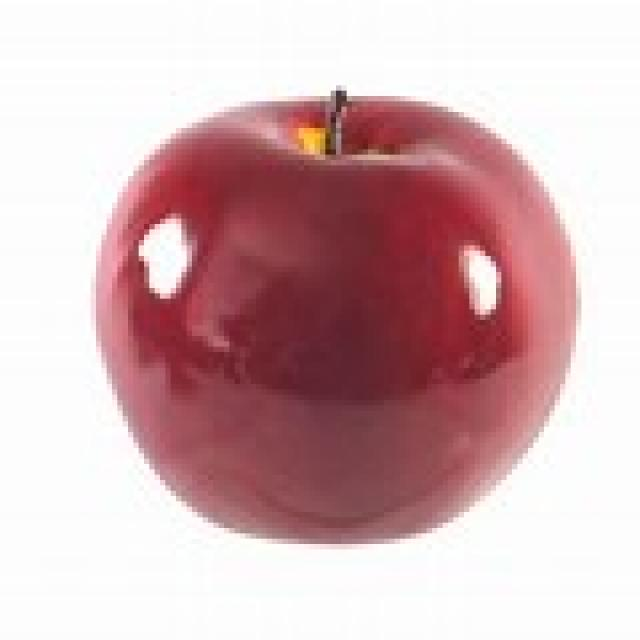apple: (80, 85, 581, 546)
